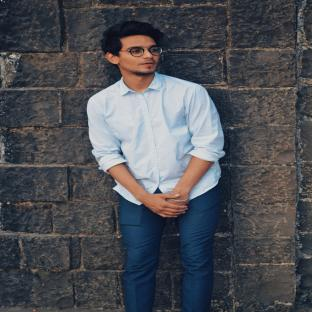Human: (87, 21, 225, 312)
